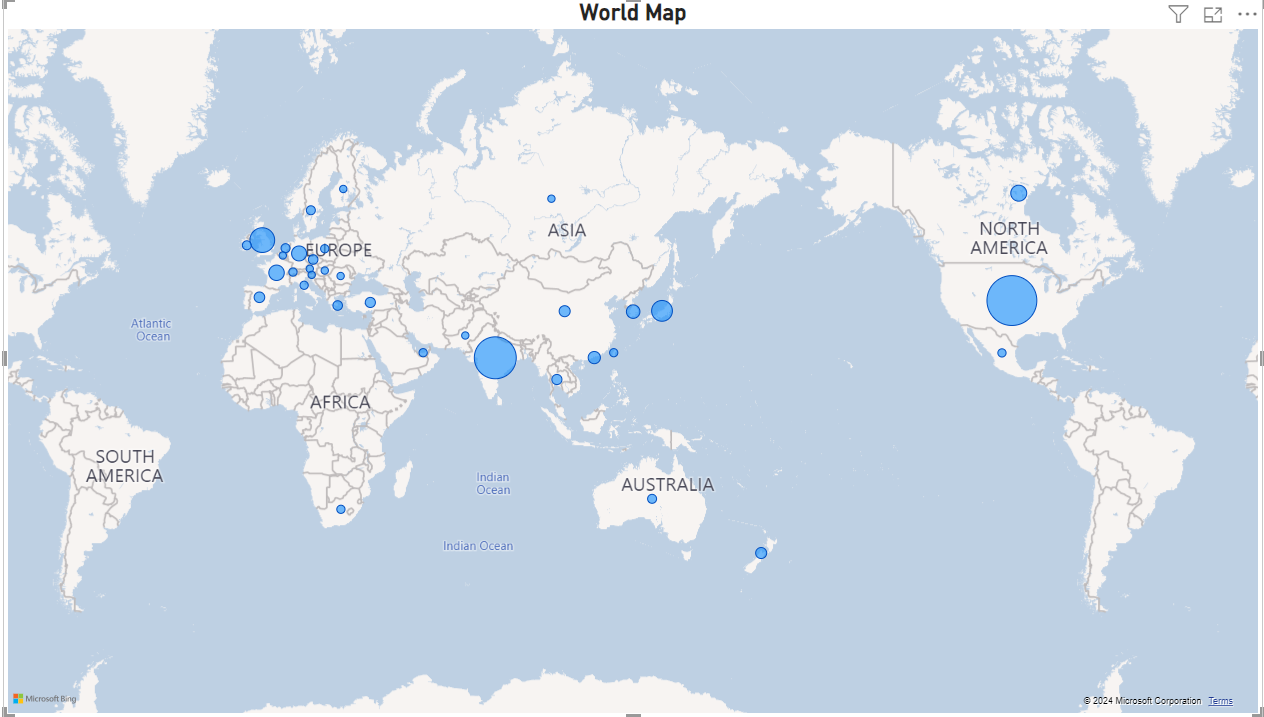

The dashboard page shown, as its layout file describes it:
{"tool":"powerbi","page":{"name":"World Map","canvas":[1280,720],"ordinal":8},"visuals":[{"type":"map","title":"World Map","fields":{"Category":["Country.Country"],"Size":["Sum(Country.Count)"]},"box":[10,0,1260,720],"z":0}]}

Visuals, with their boxes in screenshot pixels (x1, y1, x2, y2), scaled from the page's 1280x720 canvas onto the 1264x717 screenshot:
"World Map" map: 10 0 1254 716
